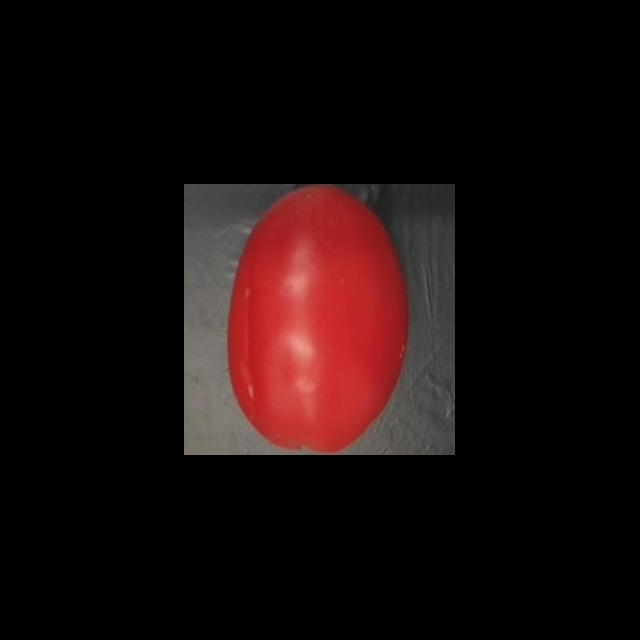tomato: (216, 187, 416, 456)
